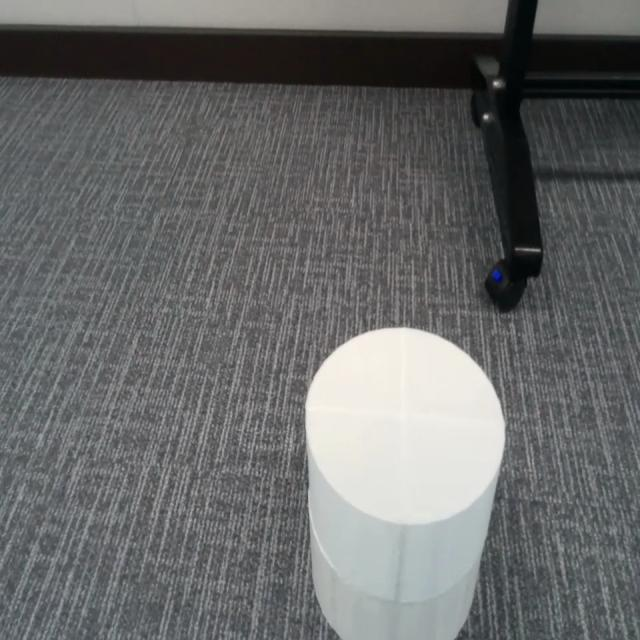cylinder: (303, 324, 506, 640)
